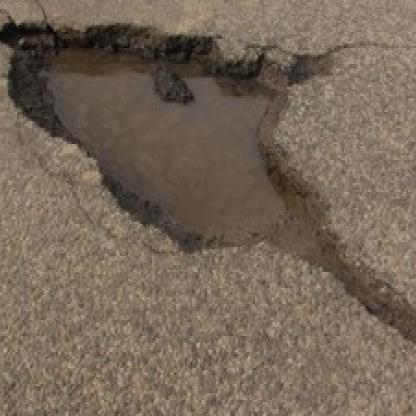pothole: (0, 18, 345, 272)
